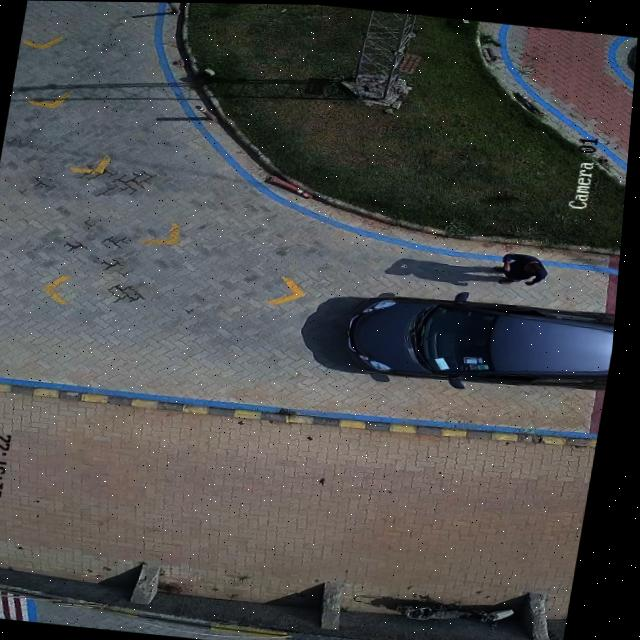car: (351, 293, 620, 387)
